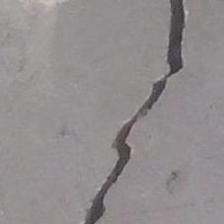Crack: (8, 1, 212, 208)
